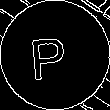P_N: (35, 28, 75, 82)
